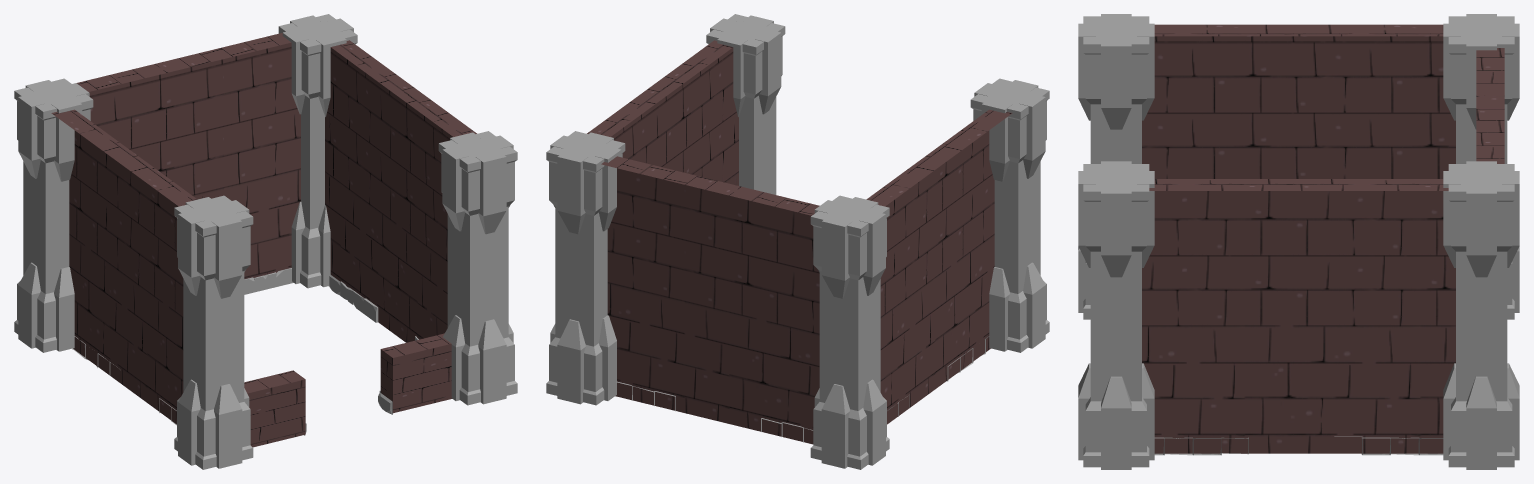
The model's file is MuroFour_door.fbx.
3 views of the same model, side by side, from view 1: azimuth 30°, elevation 25°; view 2: azimuth 150°, elevation 25°; view 3: azimuth 270°, elevation 25° (orthographic). The views are drawn at different scales.
Visible parts, largest first — view 1: Fr_Door; view 2: Fr_Door; view 3: Fr_Door.
Part boxes in pixels (x1,y1,x2,y2): Fr_Door: (14,14,517,469); Fr_Door: (546,14,1049,469); Fr_Door: (1078,14,1519,469).
Size of the model in its own units: 1515 by 1100 by 1574.
2 materials, 1 textured.
